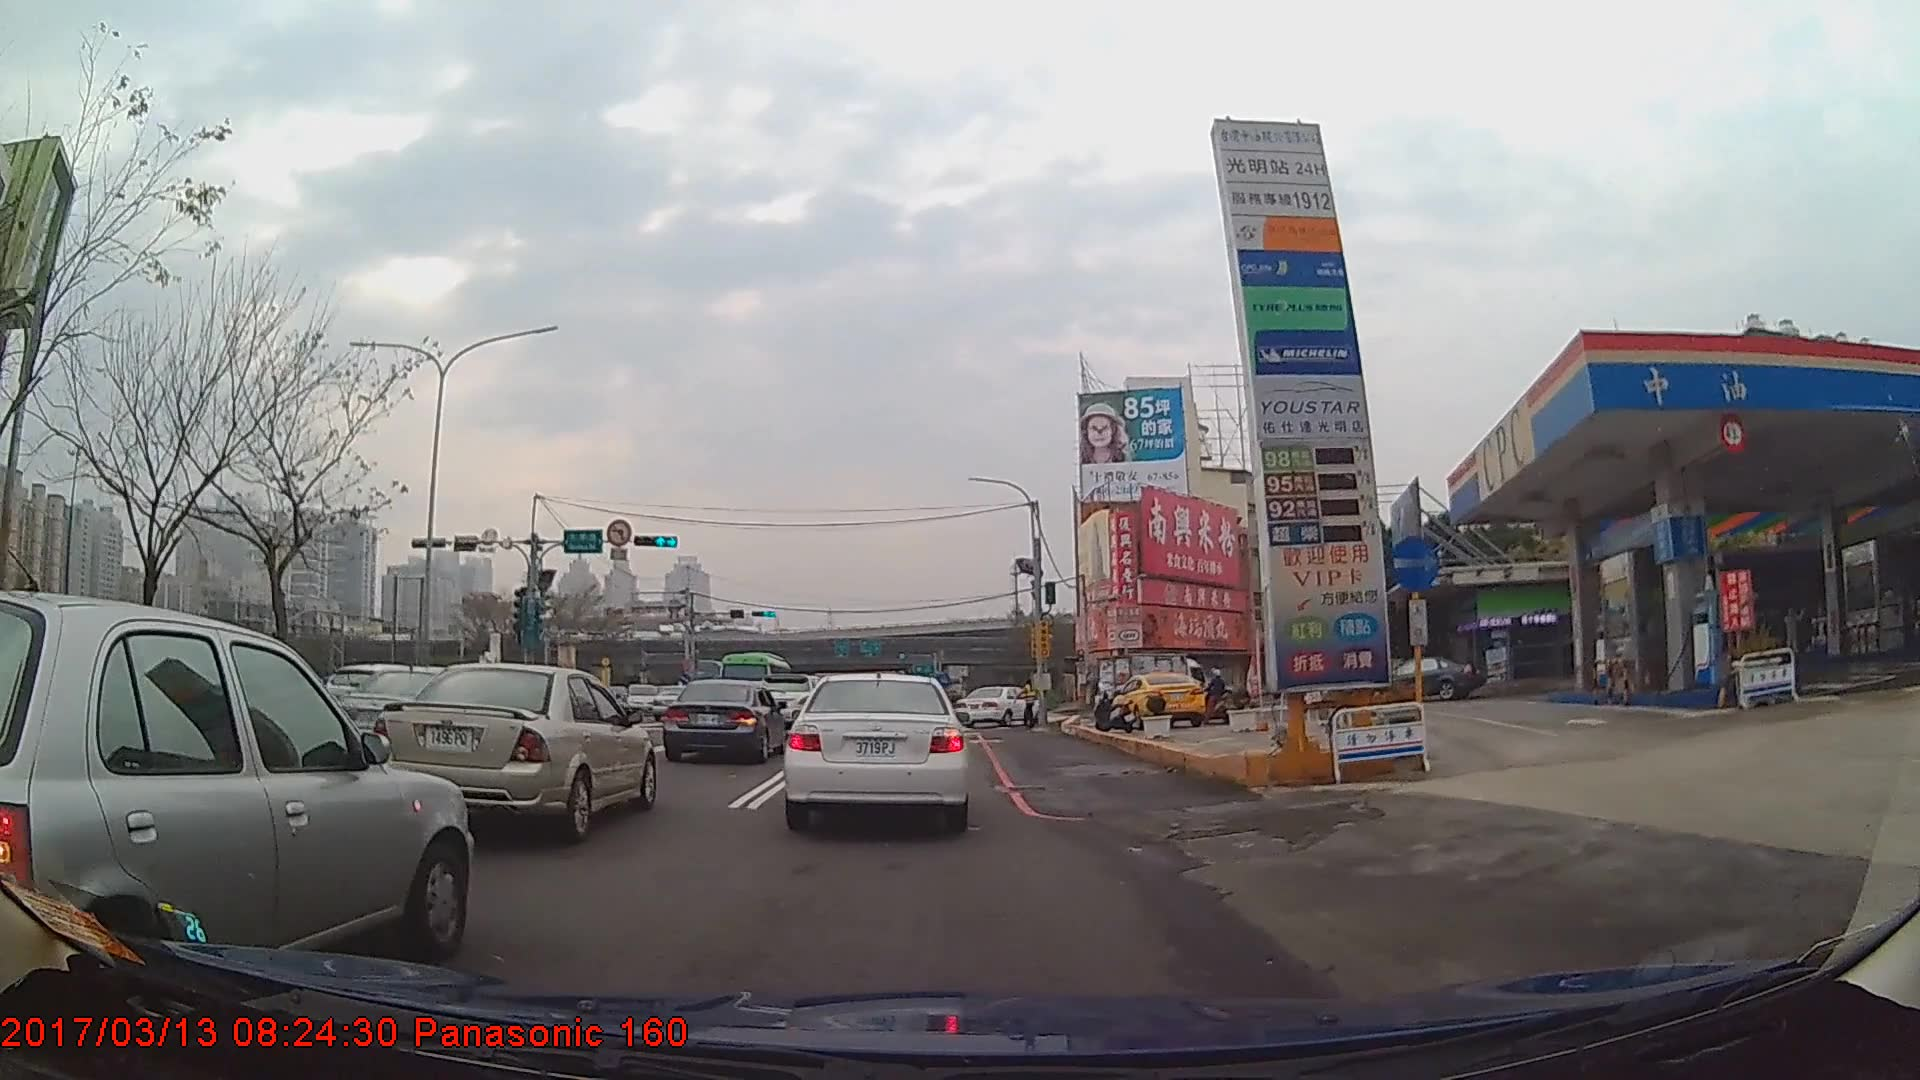rider: (1313, 660, 1352, 720), (1201, 669, 1236, 727)
vehicle: (0, 587, 474, 1003), (373, 662, 658, 840), (787, 671, 966, 830), (660, 677, 788, 766), (1095, 651, 1208, 715), (1110, 670, 1205, 727), (1378, 656, 1484, 700), (715, 651, 793, 711), (957, 684, 1045, 729)
